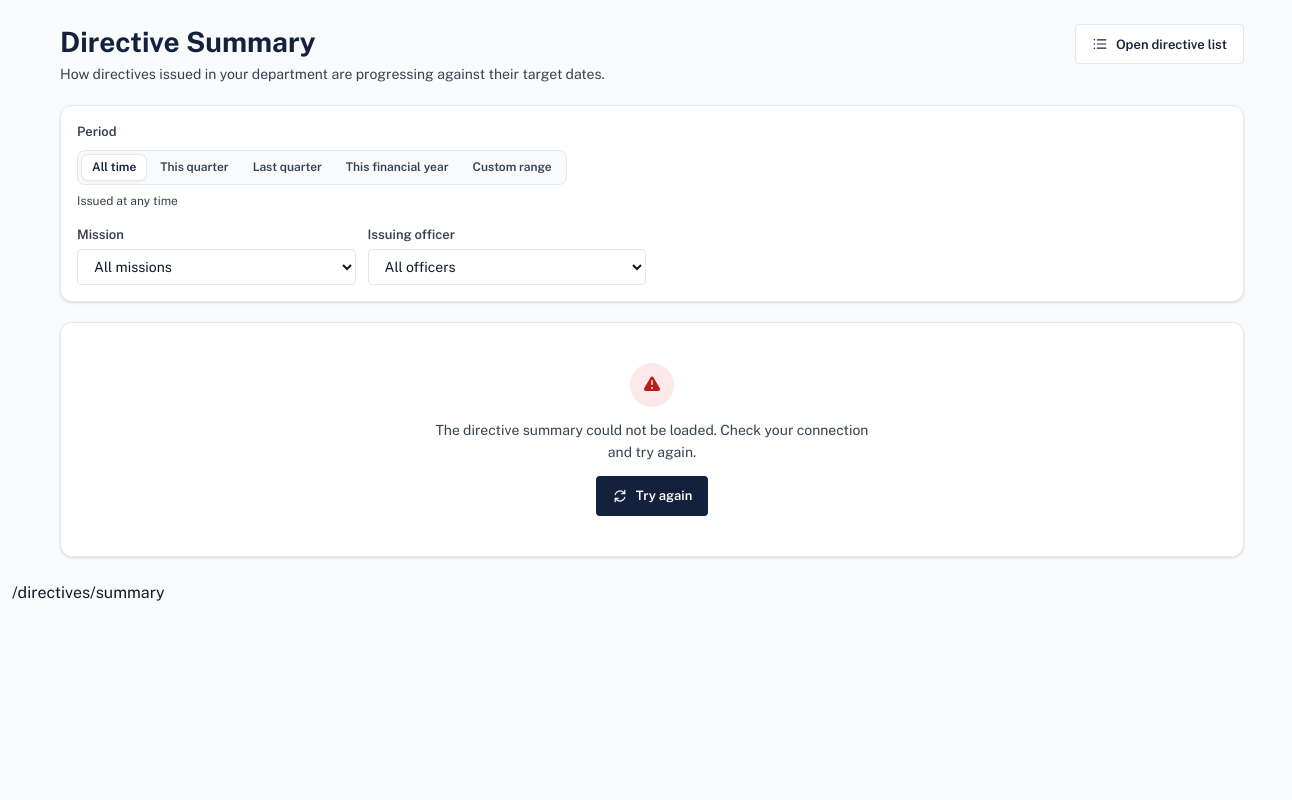
Test: DirectiveSummaryPage › TC-FR-DIR-012-K: offers a retry when the summary fails to load
Expected: the message shows "The directive summary could not be loaded.", [436, 422, 868, 460]
What coordinates should you click on to do the following:
click the button "Try again"
I would click on:
 (652, 496)
Its box is [596, 476, 708, 516].
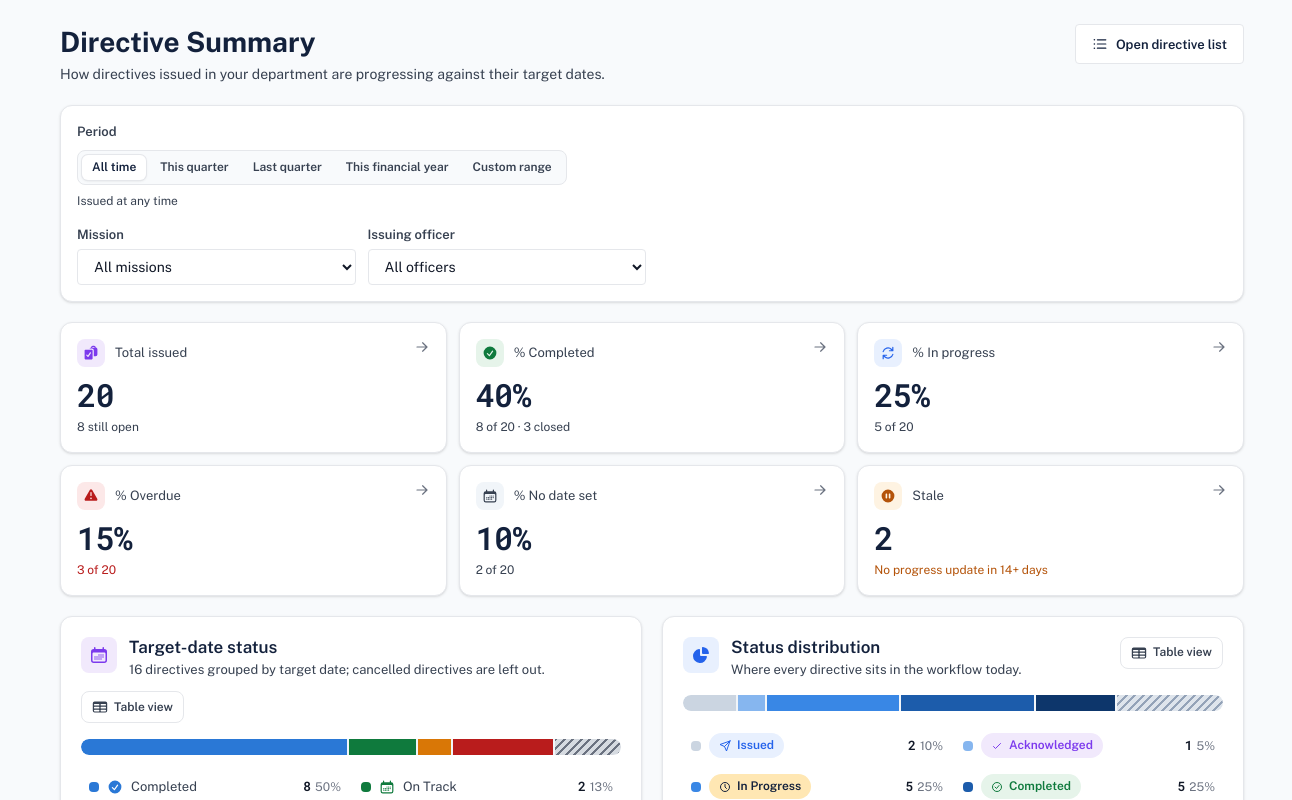
Now the link "Total issued 20 8 still open" is shown, box [60, 322, 447, 453]
